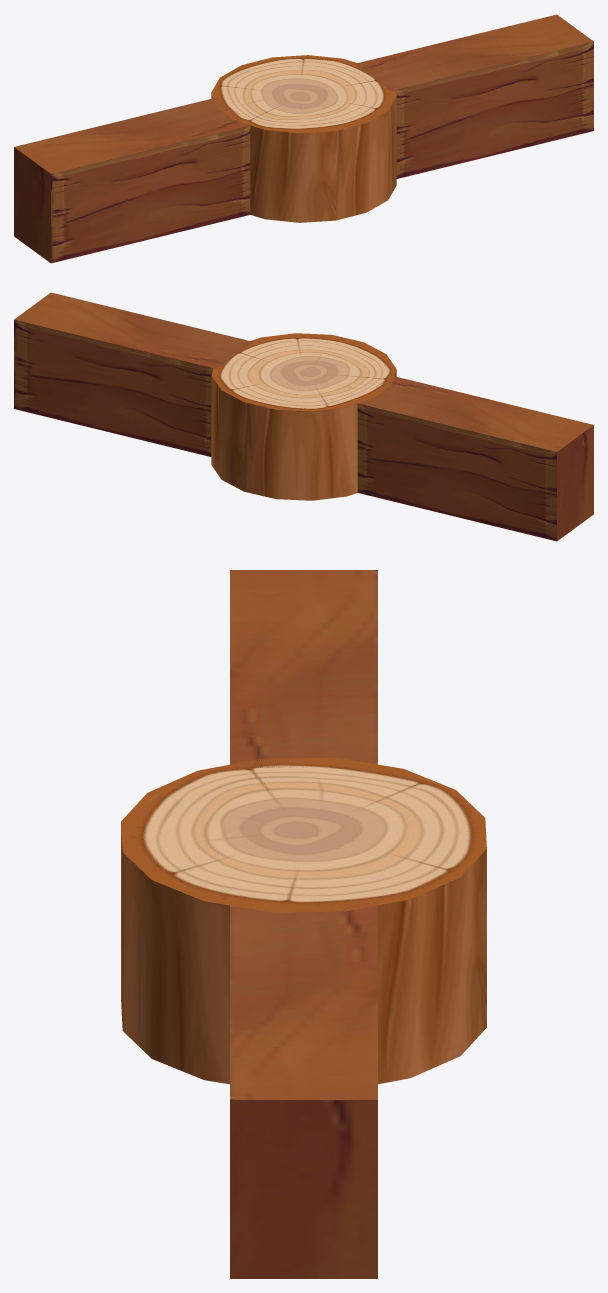
Rendered from two_blade_wood_01.fbx.
The picture shows the model from 3 angles, top to bottom: view 1: azimuth 30°, elevation 25°; view 2: azimuth 150°, elevation 25°; view 3: azimuth 270°, elevation 25°; orthographic projection. The views are drawn at different scales.
Visible parts, largest first — view 1: Blade_80, Blade_79, wood_center_19; view 2: Blade_80, Blade_79, wood_center_19; view 3: wood_center_19, Blade_79, Blade_80.
Boxes of the visible parts, <box> form: Blade_80: <box>14,97,250,263</box>; Blade_79: <box>355,14,593,178</box>; wood_center_19: <box>211,55,396,222</box>; Blade_80: <box>357,376,593,541</box>; Blade_79: <box>14,292,253,456</box>; wood_center_19: <box>211,333,396,500</box>; wood_center_19: <box>121,757,486,1084</box>; Blade_79: <box>230,902,377,1278</box>; Blade_80: <box>230,570,377,767</box>.
Bounding box in the file's own units: 254 × 40 × 74.15.
